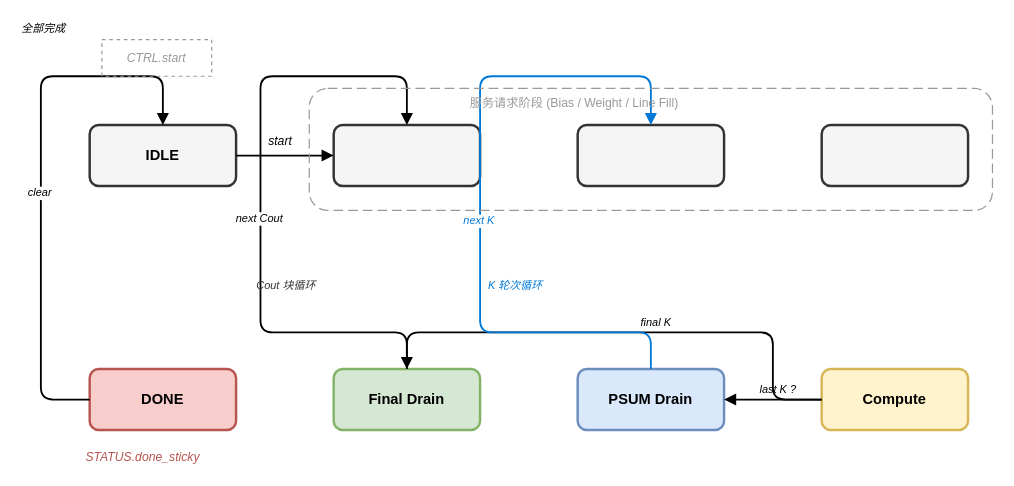
The diagram is 1014 pixels wide and 486 high, and some of its shapes have lost their labels. The box of each missing label's shape, as (x1, y1, x2, y2) in pixels:
Bias Load: (332, 123, 481, 187)
Line Fill: (820, 123, 969, 187)
Weight Load: (576, 123, 725, 187)
